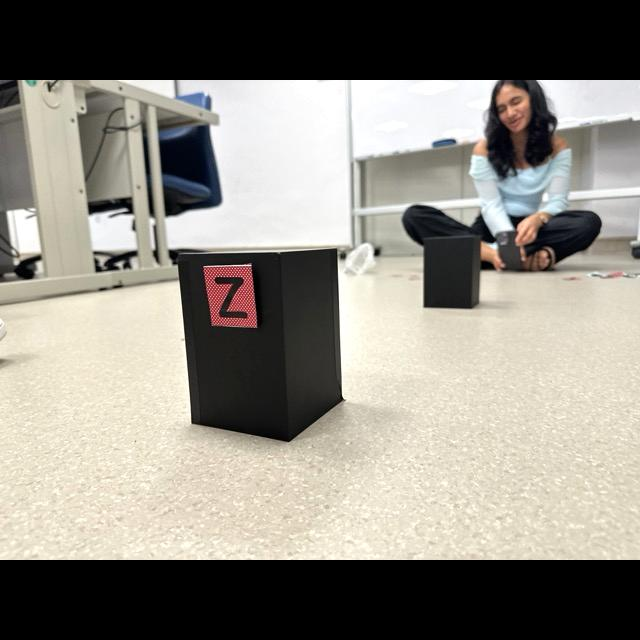Z: (214, 277, 247, 318)
